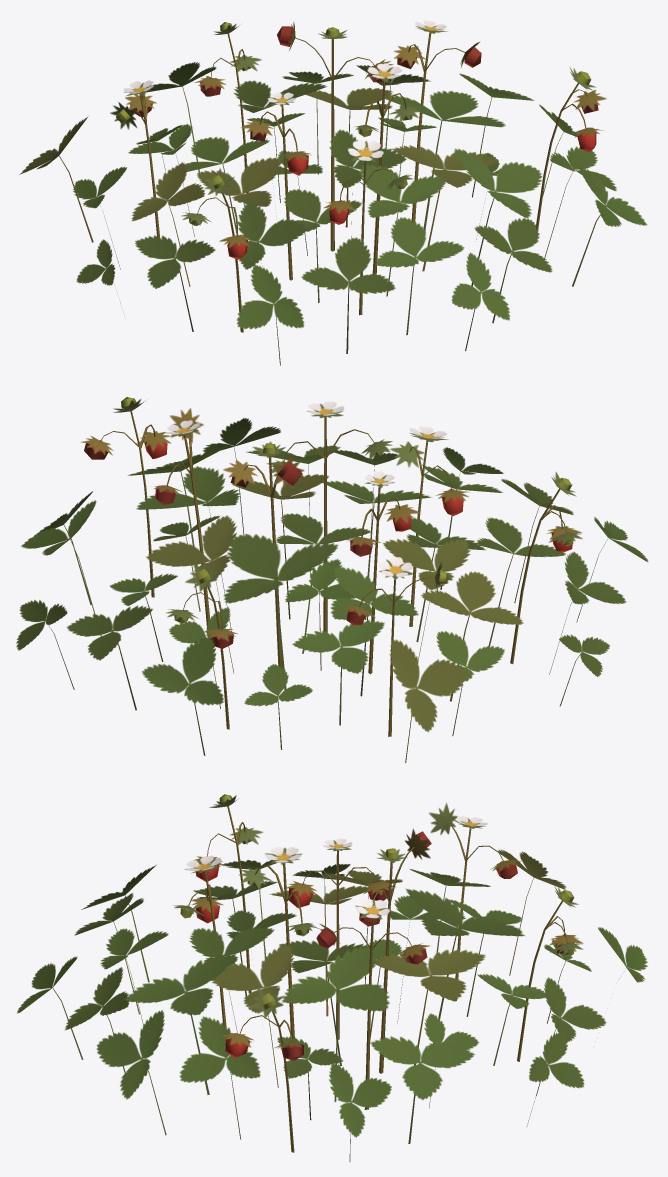
Rendered from Strawberry_Cluster_1.glb.
3 views of the same model, one above another, from view 1: azimuth 30°, elevation 25°; view 2: azimuth 150°, elevation 25°; view 3: azimuth 270°, elevation 25° (orthographic). The views are drawn at different scales.
Visible parts, largest first — view 1: Strawberry_Cluster_1; view 2: Strawberry_Cluster_1; view 3: Strawberry_Cluster_1.
Boxes of the visible parts, bbox=[...] form: Strawberry_Cluster_1: bbox=[19, 20, 647, 365]; Strawberry_Cluster_1: bbox=[16, 397, 648, 762]; Strawberry_Cluster_1: bbox=[17, 794, 647, 1161].
Bounding box in the file's own units: 1.66 × 0.6666 × 1.67.
Materials: 1 (1 with a texture image).
